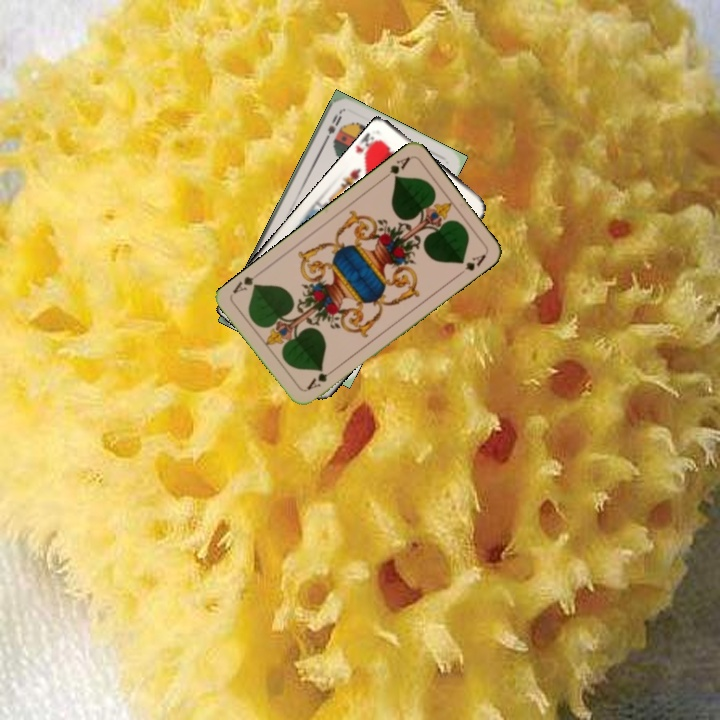GA: (378, 153, 412, 183), (303, 365, 337, 392)
HK: (357, 130, 385, 165)
SO: (319, 108, 344, 146)
